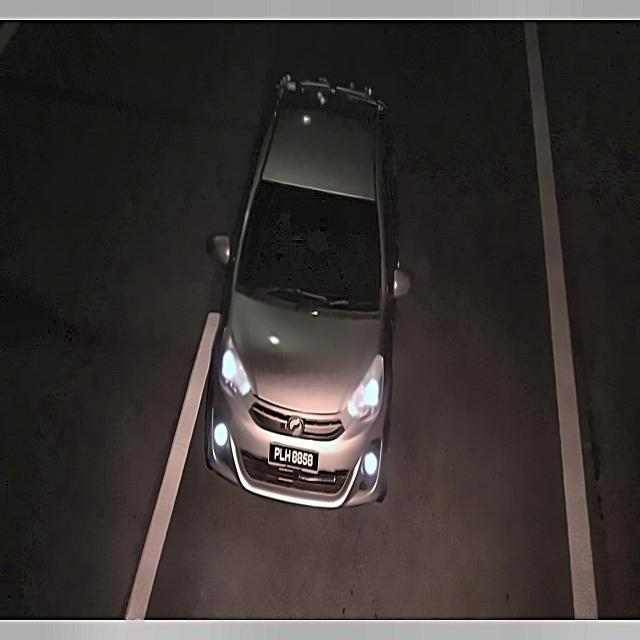car: (264, 438, 323, 478)
